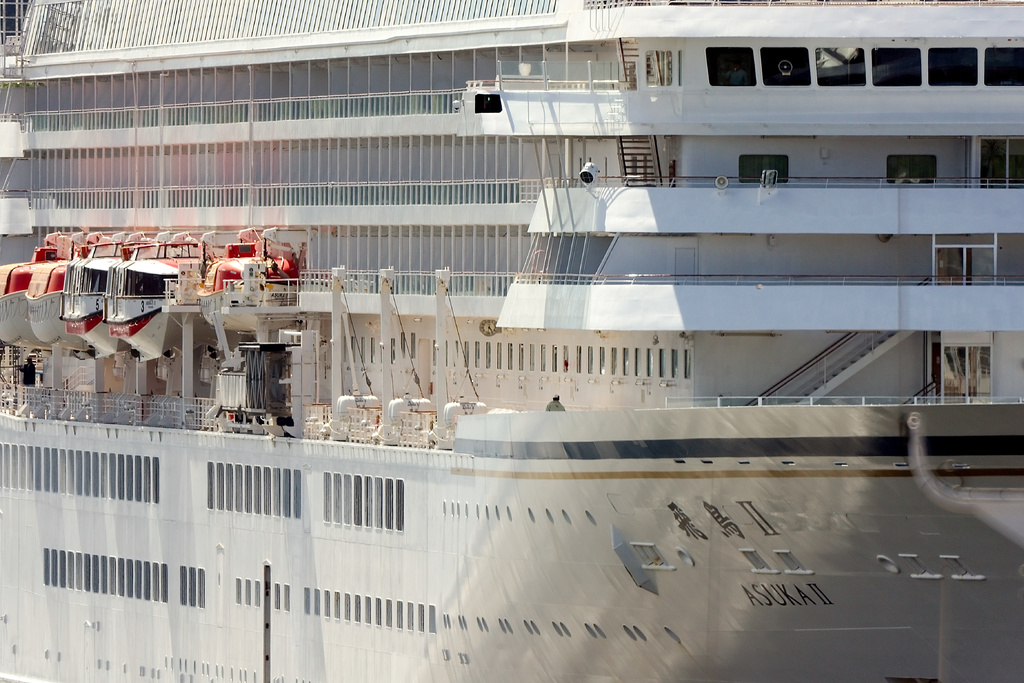boat: (1, 1, 1023, 680)
